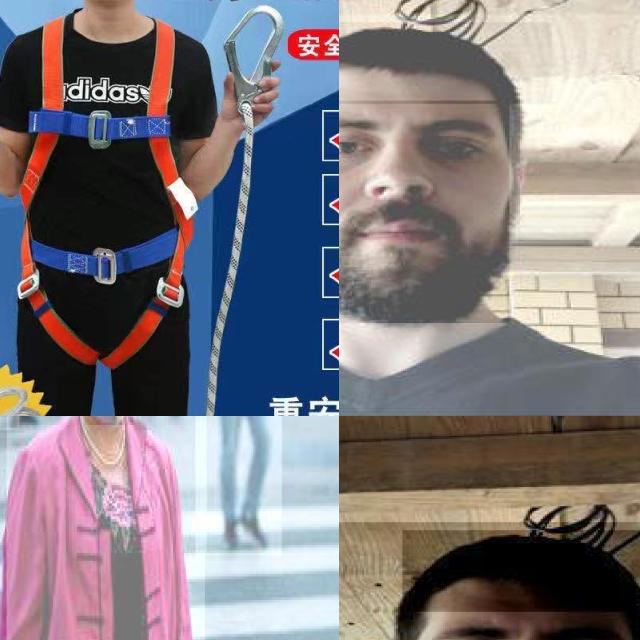Harness: (17, 16, 188, 372)
No_Glasses: (339, 106, 501, 184)
face_nomask: (339, 100, 509, 323)
head_nohelmet: (402, 530, 640, 611), (339, 22, 551, 103)
person: (339, 14, 640, 416), (6, 416, 206, 640), (339, 522, 640, 640), (195, 416, 283, 558)
shoes: (238, 499, 270, 549), (218, 506, 248, 553)
